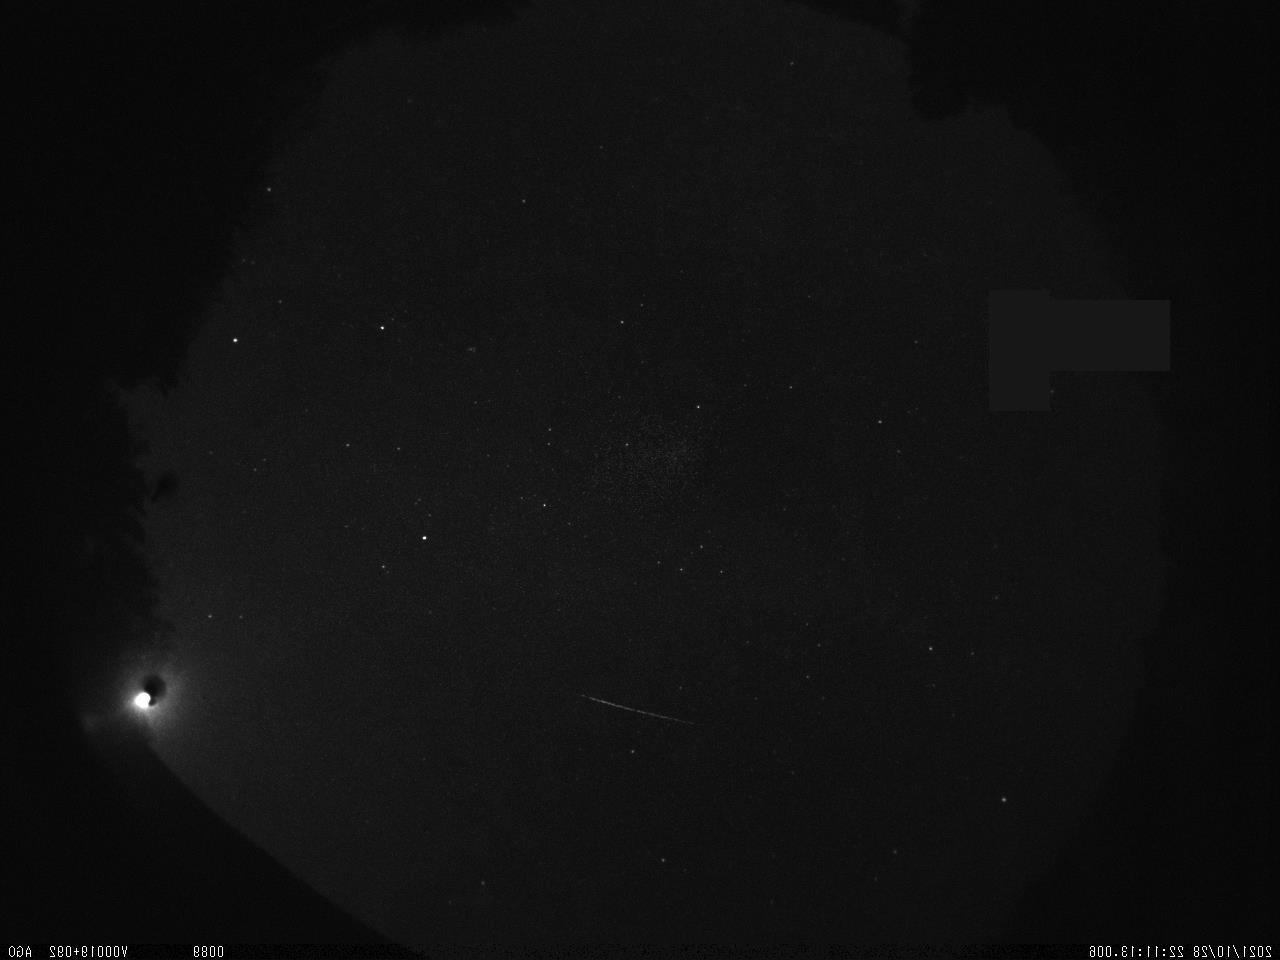meteor: (559, 668, 694, 730)
